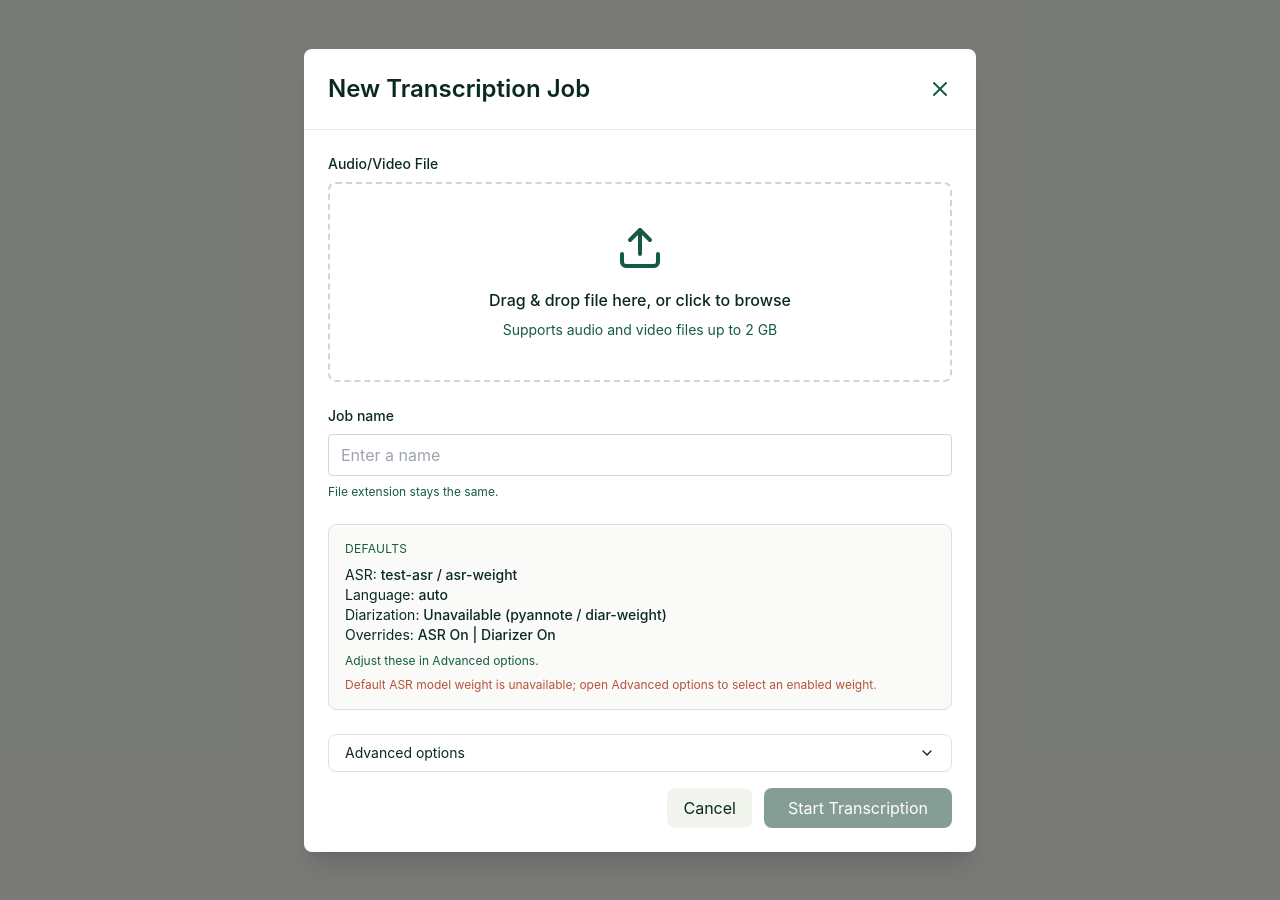
Test: NewJobModal › shows advanced panel when toggled
Click the button with test id "advanced-toggle".
click(405, 752)  # box [328,734,952,772]
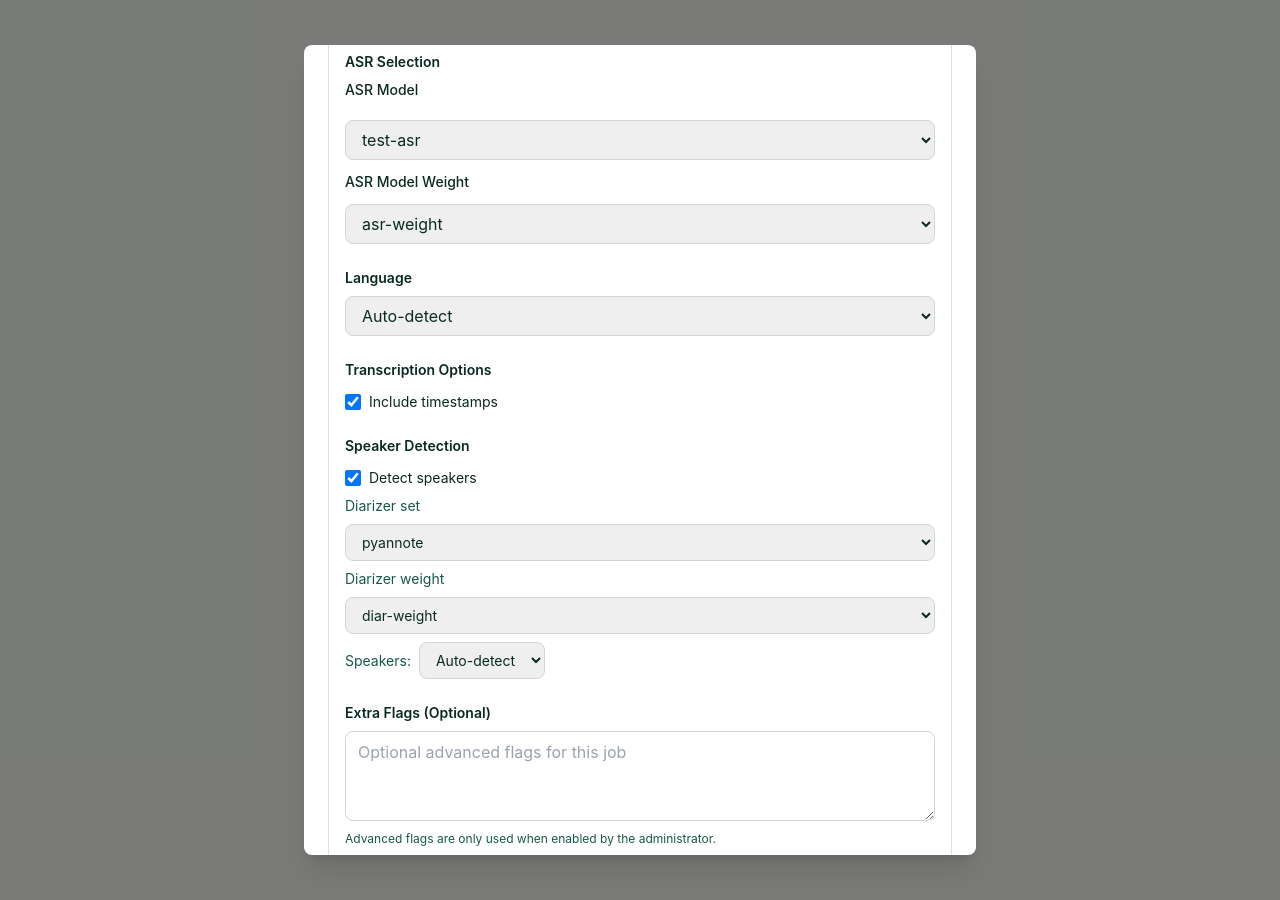
expect the element with test id "advanced-panel" is shown: met, box [328,45,952,855]
